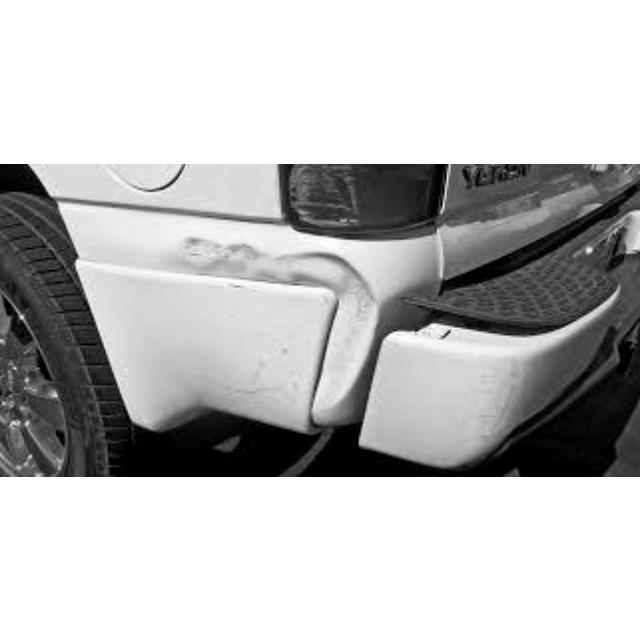rear-bumper-dent: (98, 201, 506, 448)
